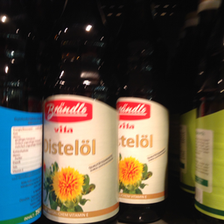oil: (44, 2, 119, 224), (115, 5, 170, 212)
